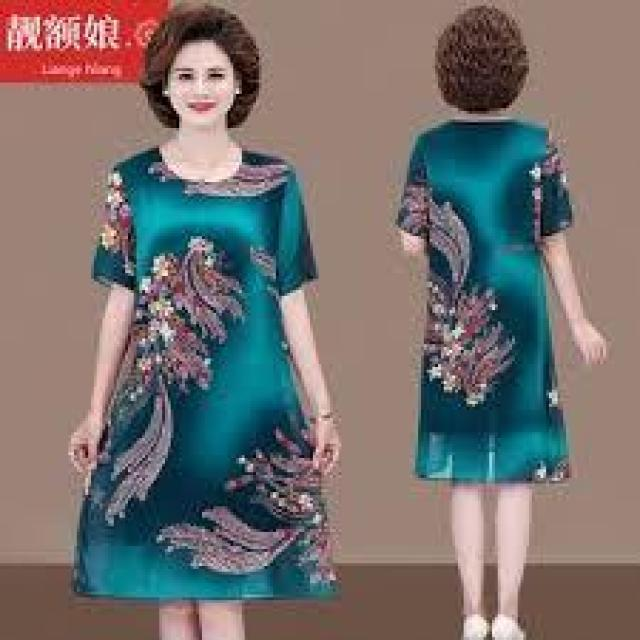dress: (70, 145, 362, 620), (358, 120, 612, 503)
